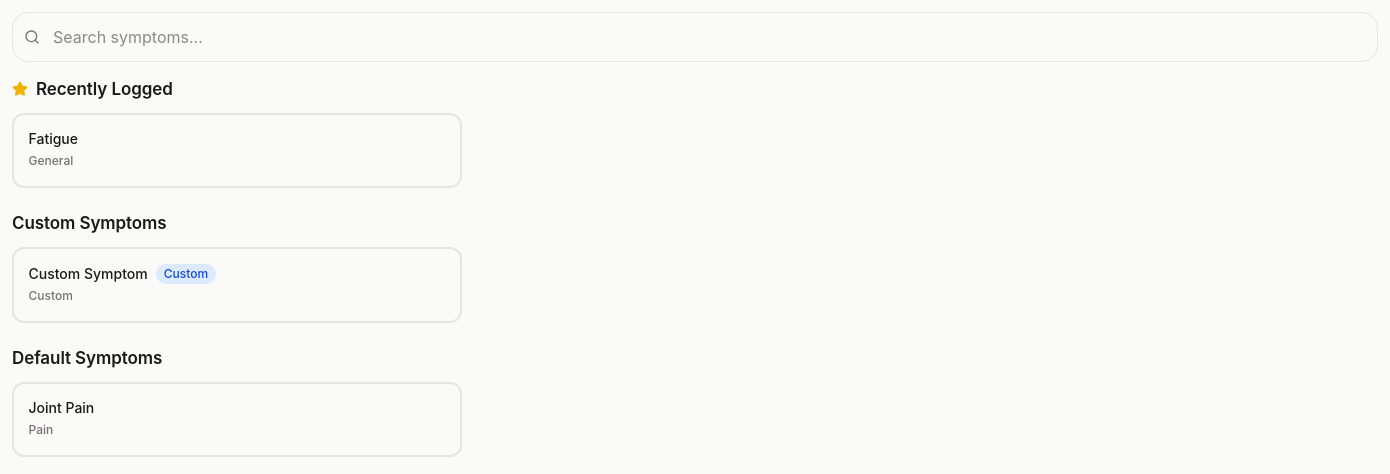
SymptomSelectionList › AC3.5.3.7 - Full-page symptom selection › filters symptoms by category when searching
In the field with placeholder "Search symptoms...": {"x": 695, "y": 37} [12,12,1378,62], type "pain"
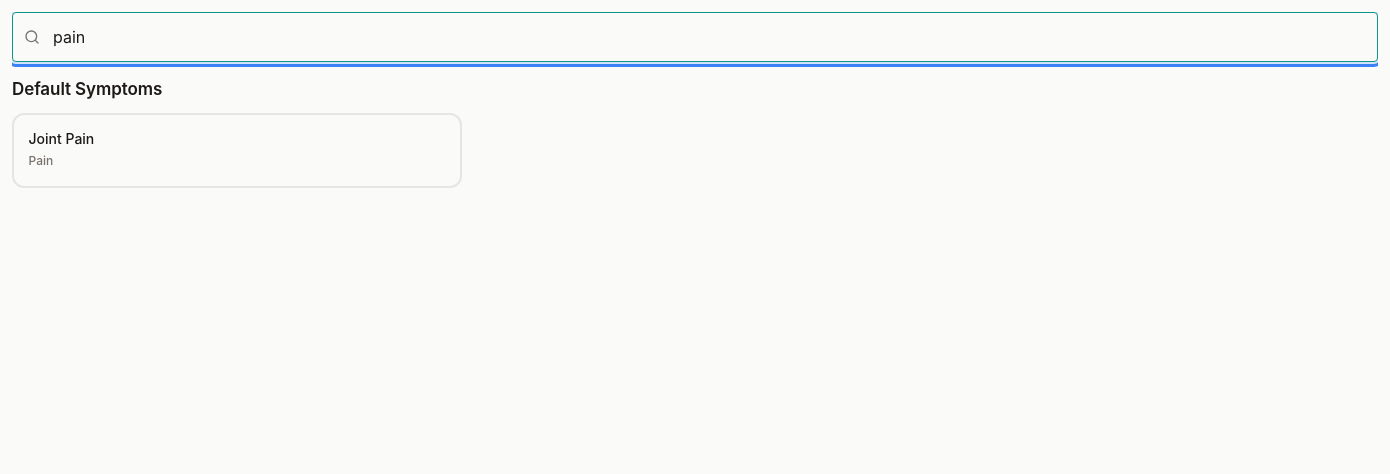
Expected: the text "Joint Pain" is shown, [28,129,94,149]
Expected: the button "Fatigue" is gone
